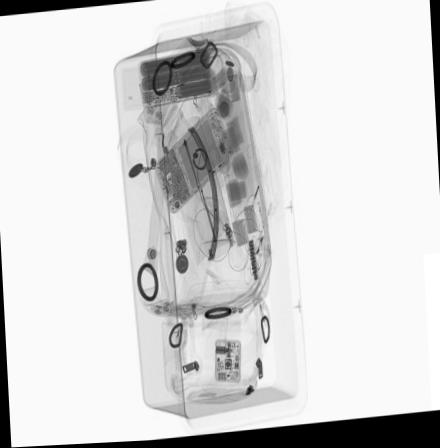Powerbank: (136, 43, 214, 113)
